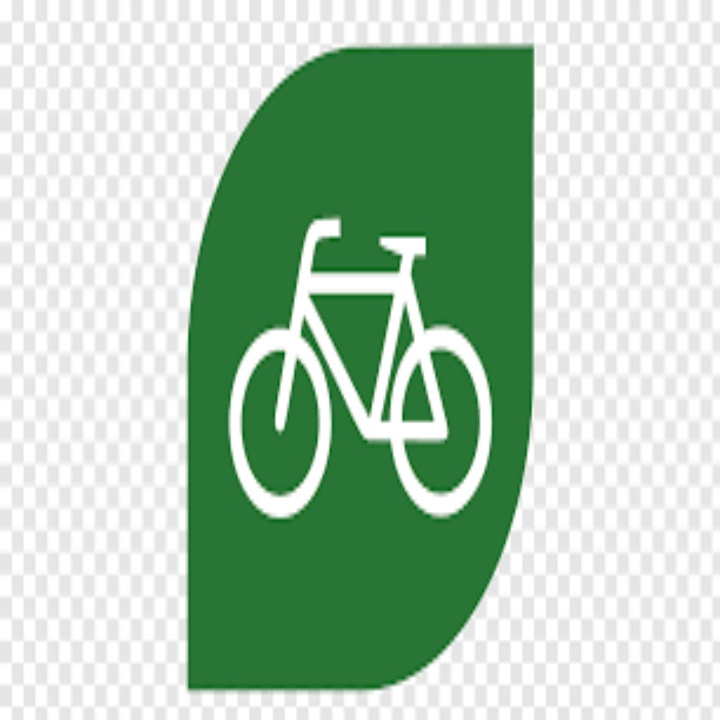bicycle: (207, 215, 515, 523)
